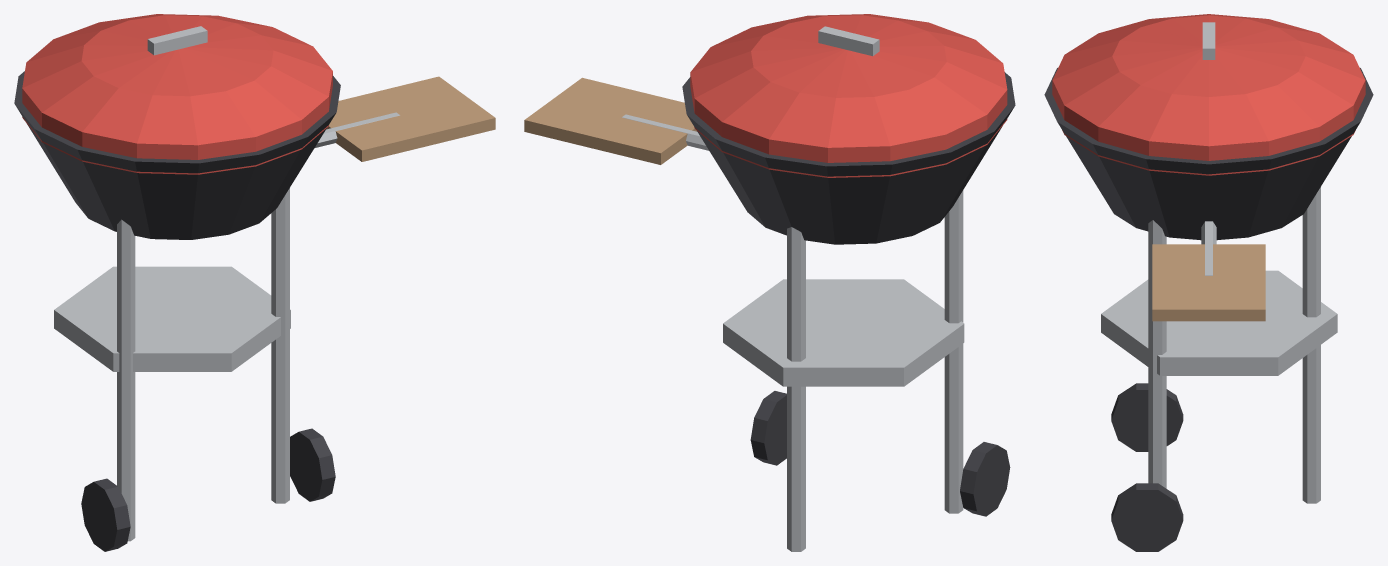
File: SM_Backyard_Grill.fbx
3 renders of one model, left to right at view 1: azimuth 30°, elevation 25°; view 2: azimuth 150°, elevation 25°; view 3: azimuth 270°, elevation 25°, orthographic. The views are drawn at different scales.
Parts seen in each view (by area): view 1: SM_Backyard_Grill; view 2: SM_Backyard_Grill; view 3: SM_Backyard_Grill.
Part boxes in pixels (box(x1,y1,x2,y2)): SM_Backyard_Grill: box(14, 14, 495, 551); SM_Backyard_Grill: box(524, 14, 1015, 551); SM_Backyard_Grill: box(1044, 14, 1373, 551).
Size of the model in its own units: 97 by 64 by 99.75.
